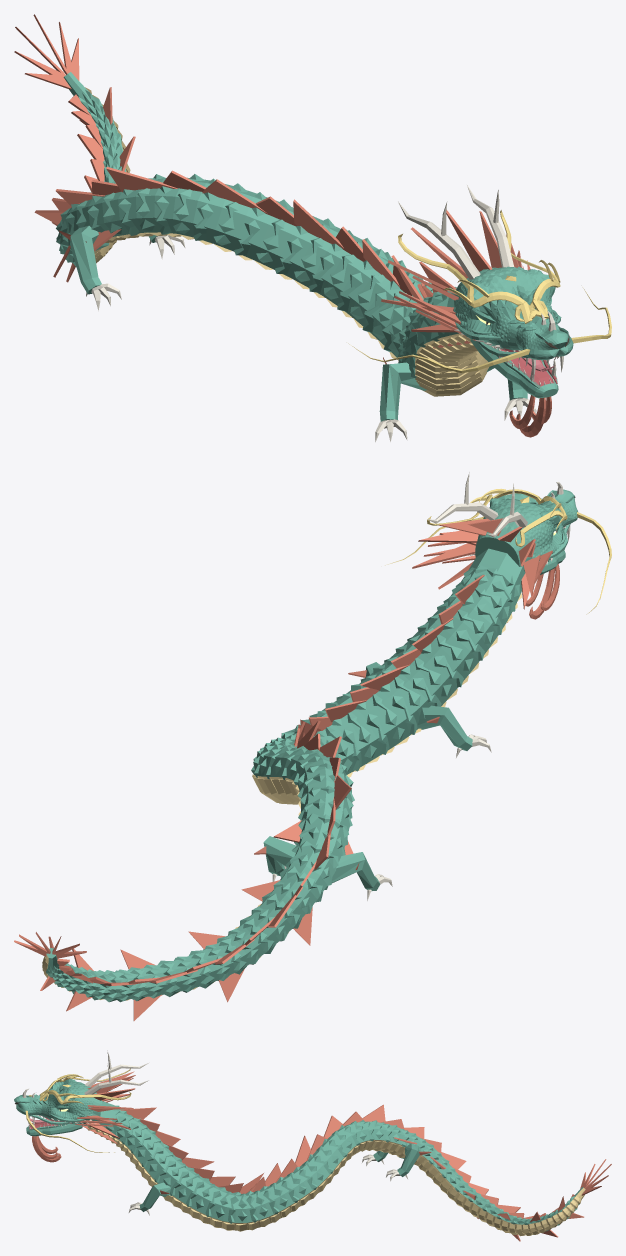
File: Dragon_Long_v16.glb
3 renders of one model, top to bottom at view 1: azimuth 30°, elevation 25°; view 2: azimuth 150°, elevation 25°; view 3: azimuth 270°, elevation 25°, orthographic. The views are drawn at different scales.
Visible parts, largest first — view 1: Body, Fins, Belly, Horns, Whiskers, Mouth; view 2: Body, Fins, Horns, Whiskers, Belly; view 3: Body, Fins, Belly, Horns, Whiskers.
Part boxes in pixels (left/top/right/bottom): Body: left=56, top=72, right=573, bottom=421; Fins: left=14, top=14, right=551, bottom=437; Belly: left=85, top=87, right=488, bottom=396; Horns: left=86, top=185, right=563, bottom=442; Whiskers: left=348, top=210, right=611, bottom=373; Mouth: left=484, top=342, right=557, bottom=387; Body: left=46, top=489, right=577, bottom=1002; Fins: left=14, top=518, right=559, bottom=1020; Horns: left=272, top=472, right=570, bottom=900; Whiskers: left=385, top=488, right=611, bottom=614; Belly: left=42, top=593, right=522, bottom=1000; Body: left=14, top=1079, right=583, bottom=1234; Fins: left=32, top=1071, right=611, bottom=1241; Belly: left=87, top=1126, right=585, bottom=1236; Horns: left=22, top=1050, right=407, bottom=1215; Whiskers: left=25, top=1068, right=131, bottom=1152.
Bounding box in the file's own units: 14.8 × 19.31 × 58.04.
